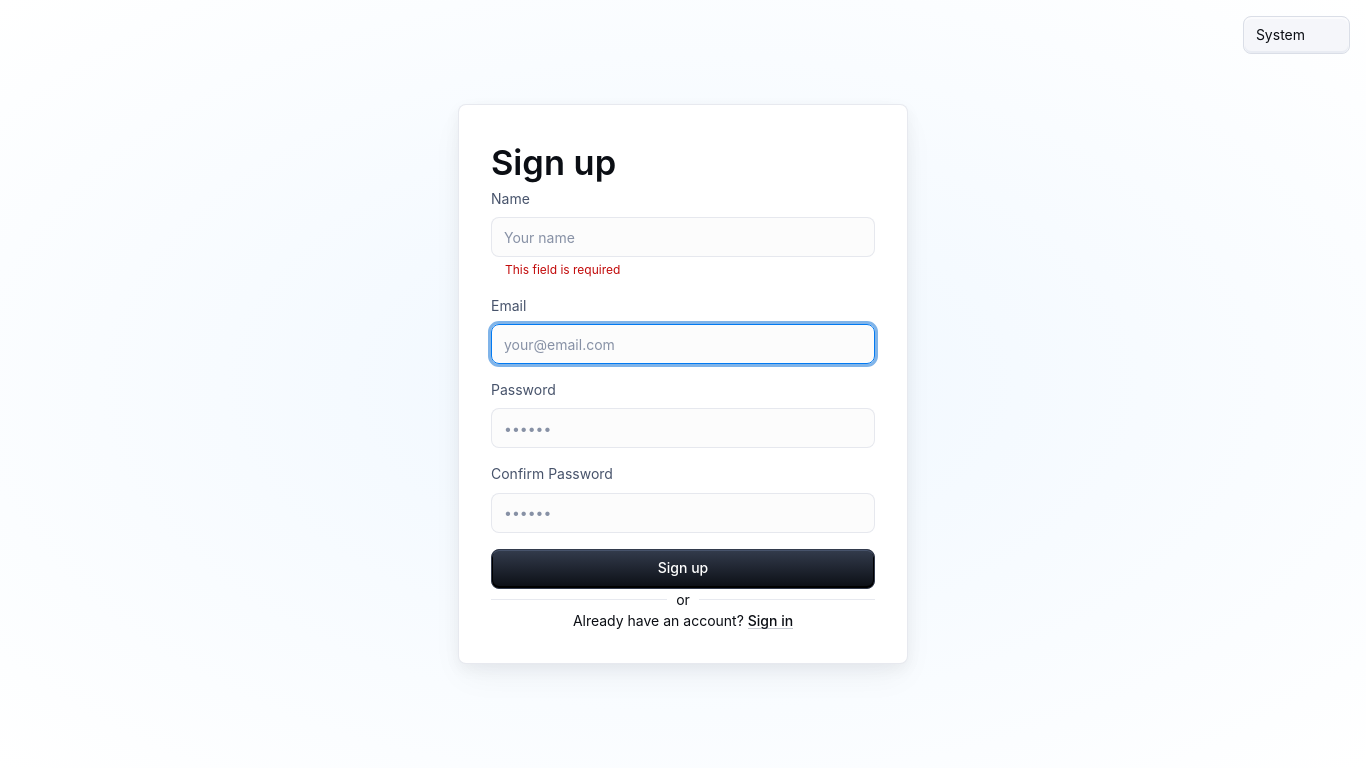
Test: Auth - Sign Up › shows server error toast on failed registration
In the field with id "name": coordinates (683, 237) [504, 227, 862, 247], type "George"
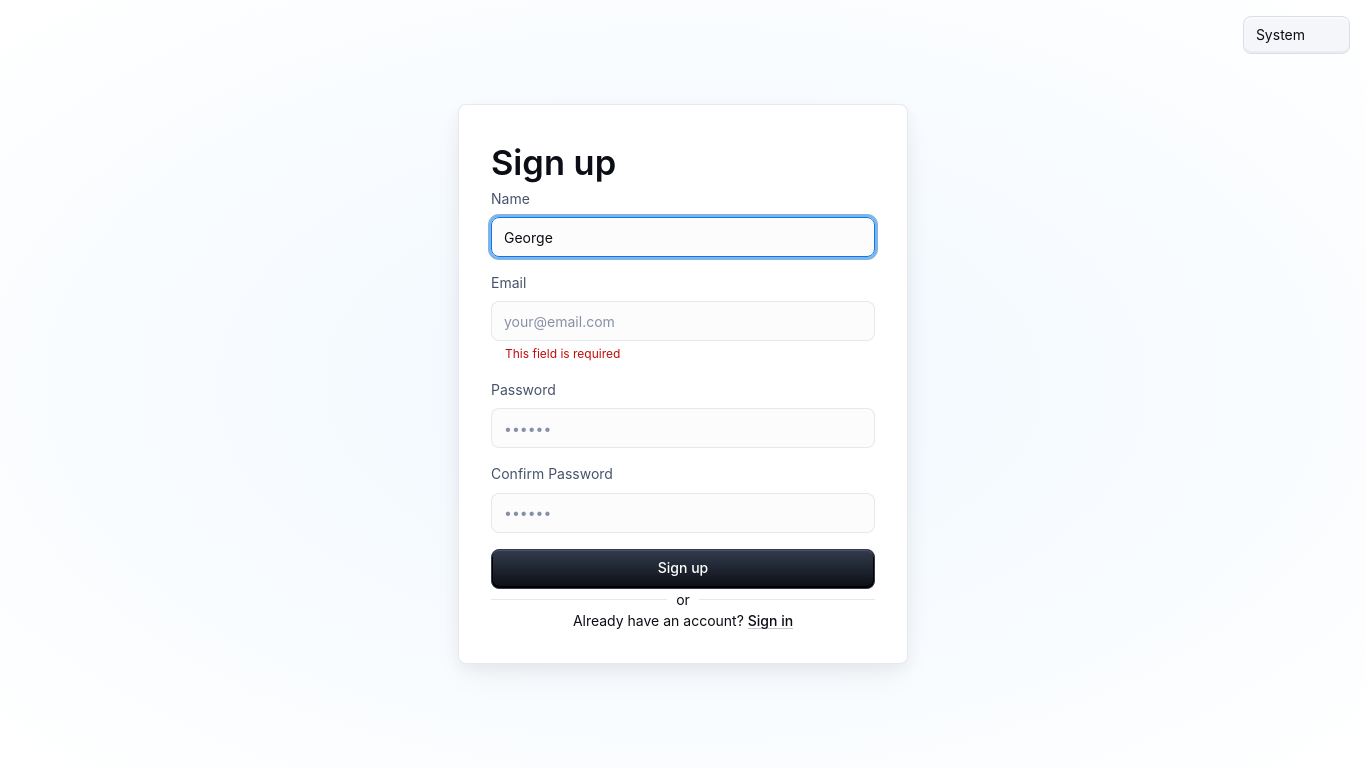
In the field with id "email": coordinates (683, 321) [504, 311, 862, 331], type "george.bluth@reqres.in"
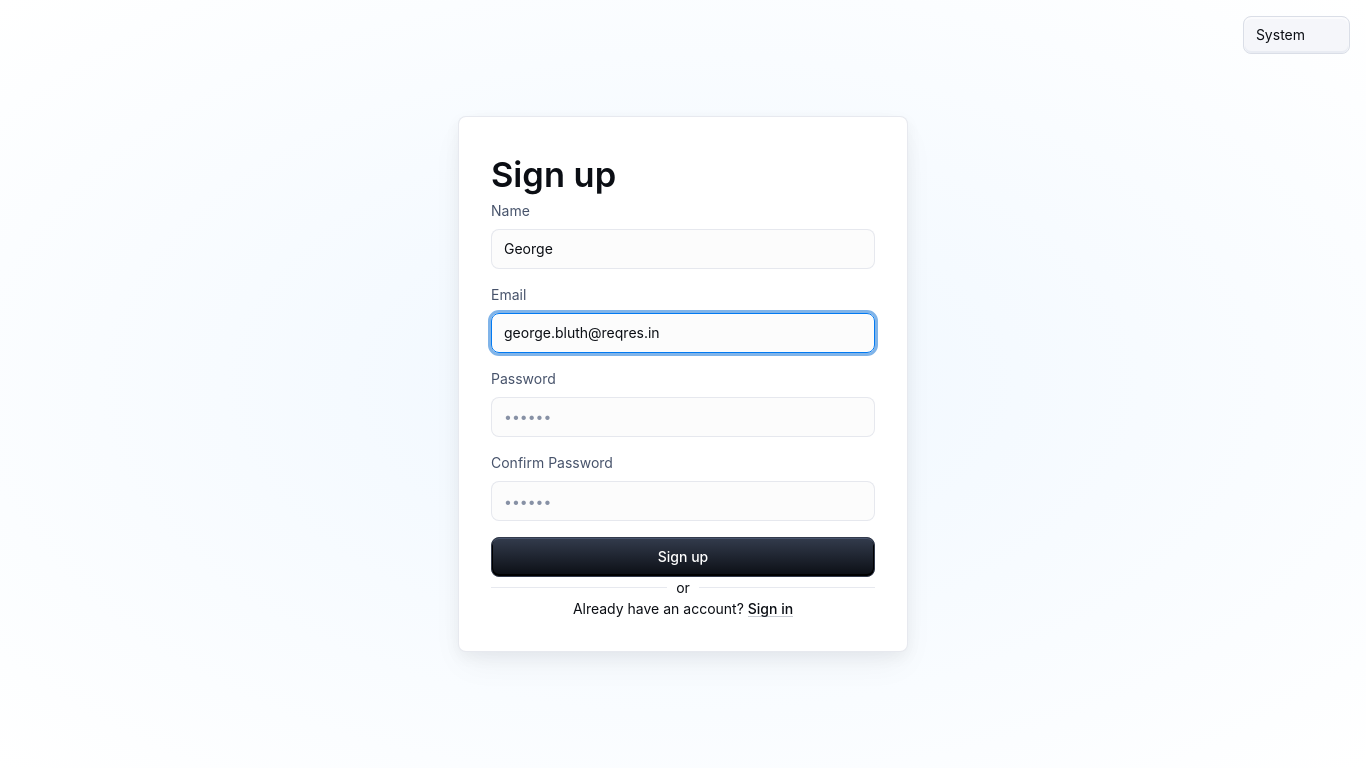
In the password field labelled "Password": coordinates (683, 417) [504, 407, 862, 427], type "cityslicka"
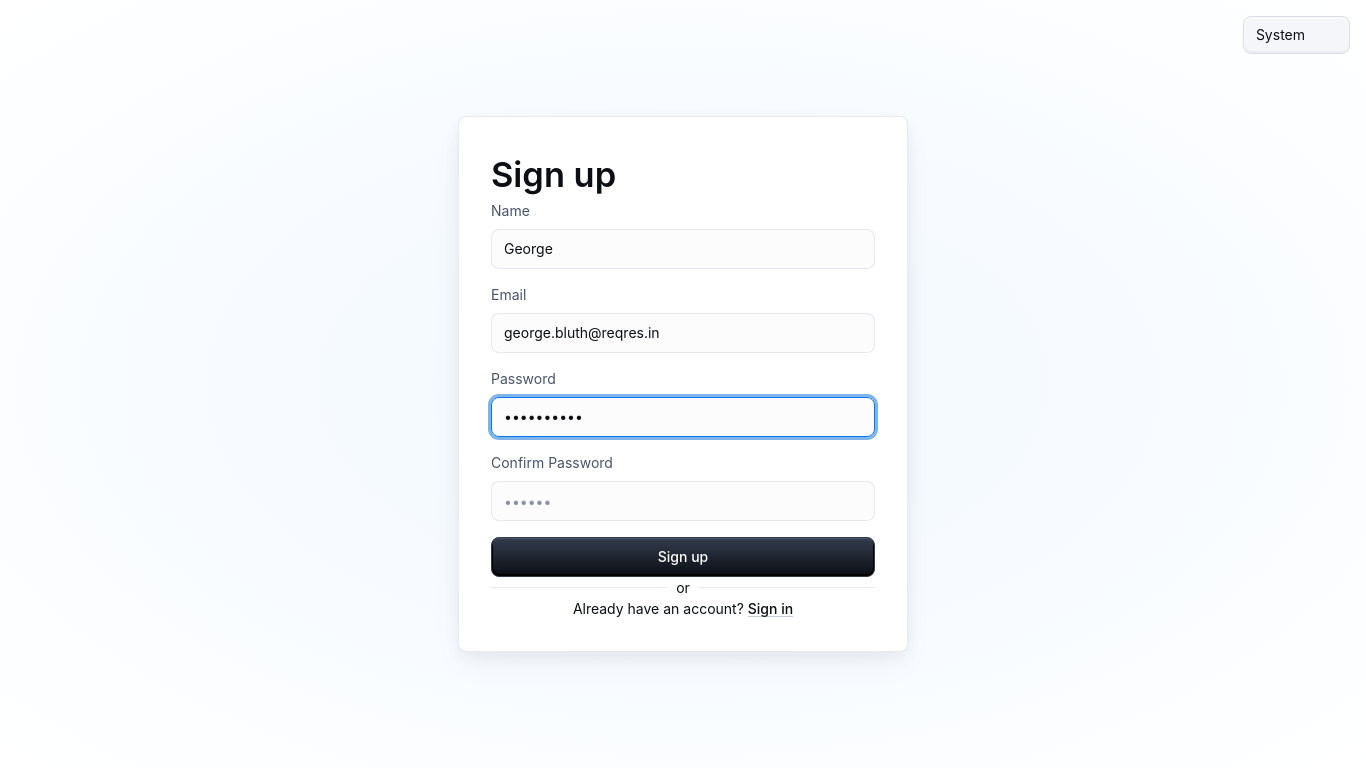
In the password field with id "confirmPassword": coordinates (683, 501) [504, 491, 862, 511], type "cityslicka"
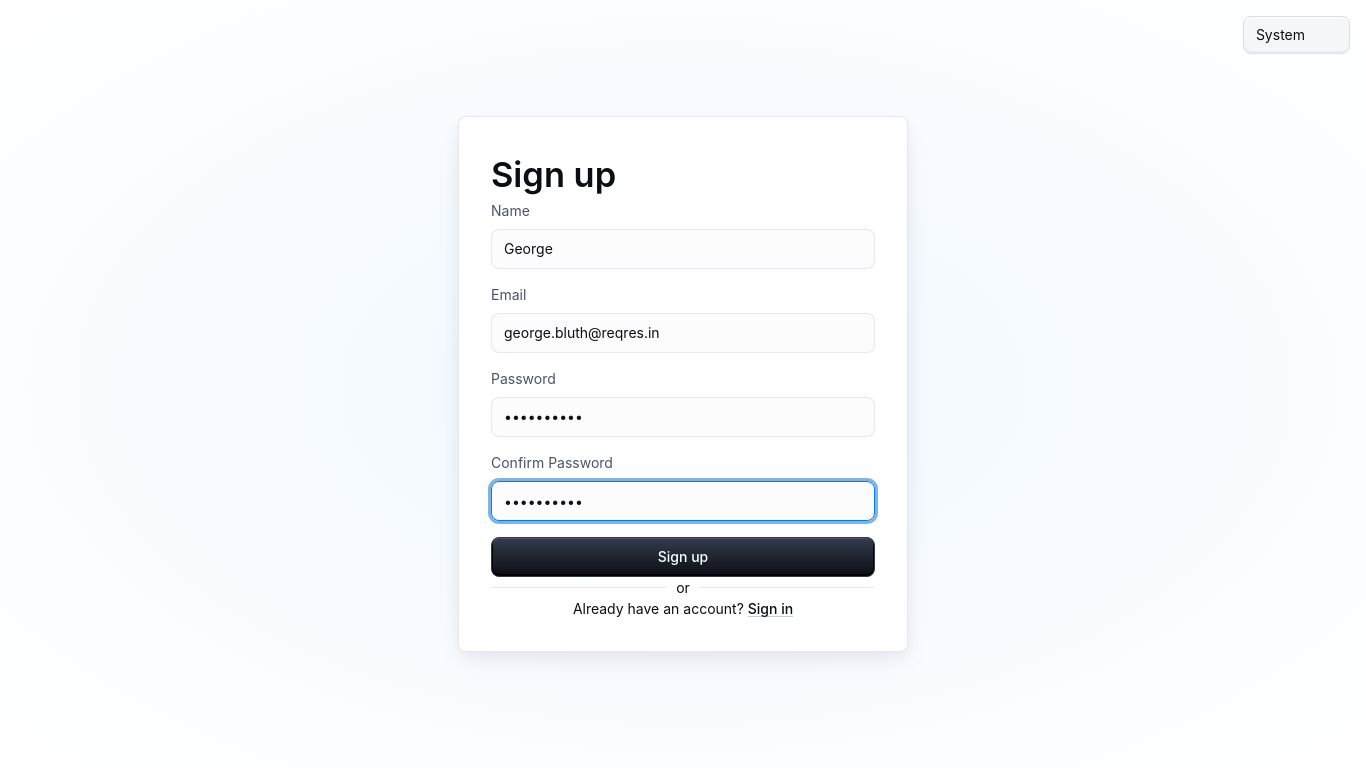
Click the button with id "sign-up-submit": coordinates (683, 557) [491, 537, 875, 577]
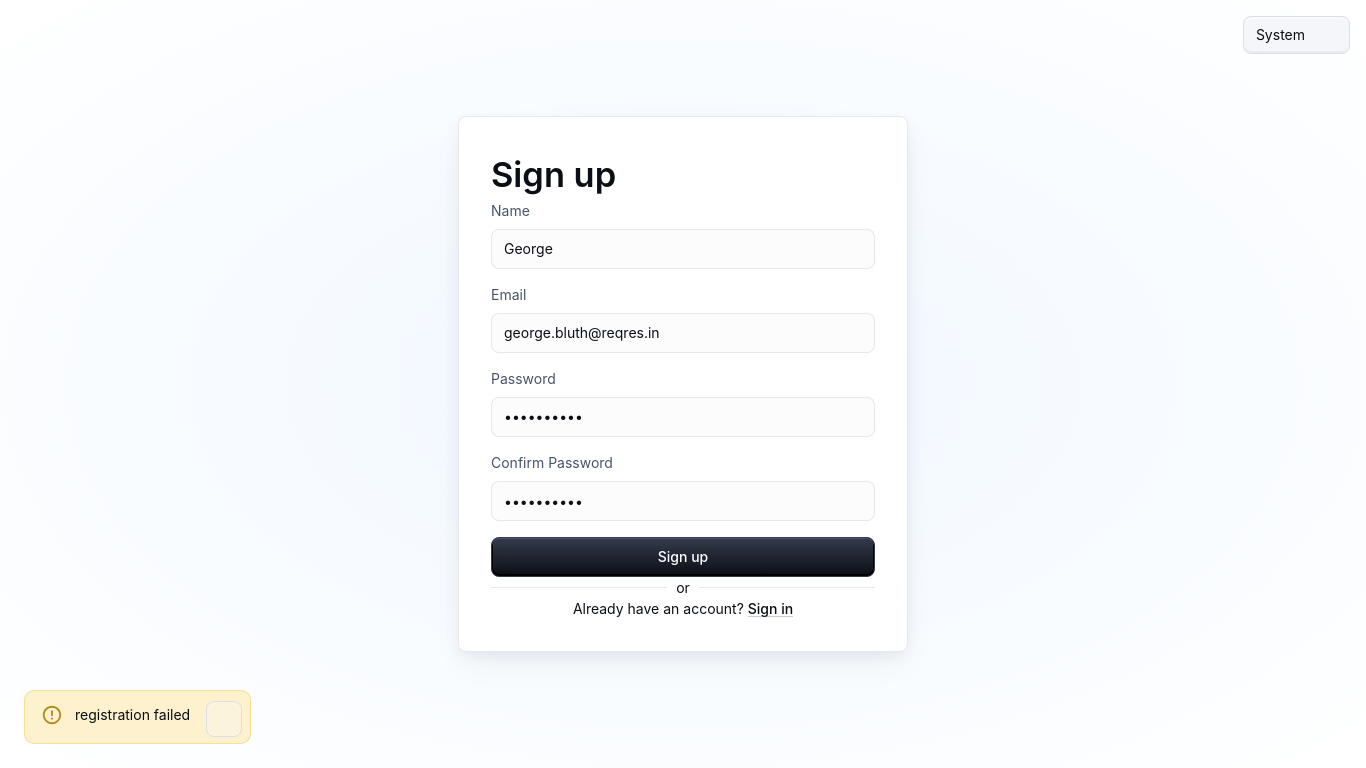
Result: the text "registration failed" is shown at [75, 706, 190, 723]
